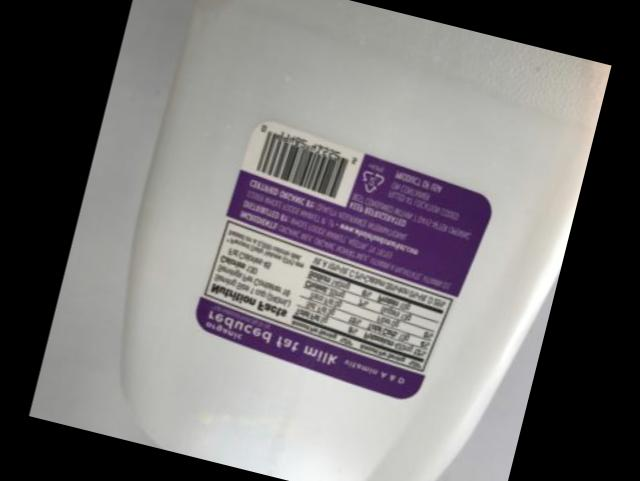plastic: (124, 0, 612, 481)
